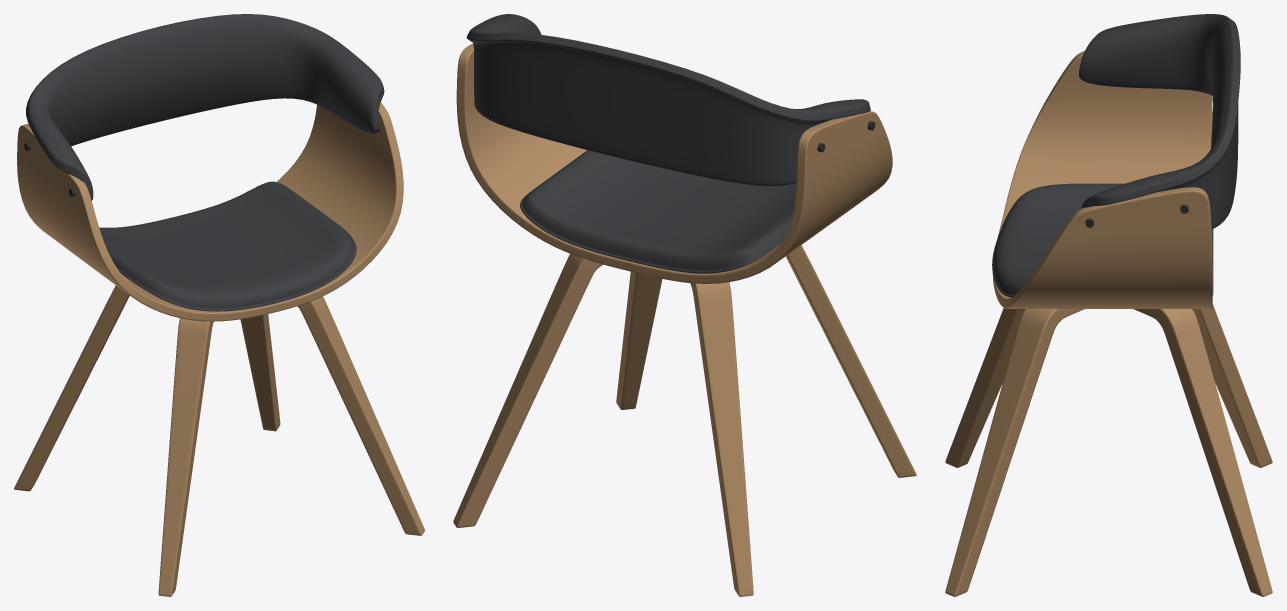
The model's file is chair-shell-1k.glb.
3 renders of one model, left to right at view 1: azimuth 30°, elevation 25°; view 2: azimuth 150°, elevation 25°; view 3: azimuth 270°, elevation 25°, orthographic. The views are drawn at different scales.
Visible parts, largest first — view 1: Cube; view 2: Cube; view 3: Cube.
Boxes of the visible parts, x1,y1,x2,y2 form: Cube: (14, 14, 424, 596); Cube: (453, 14, 916, 596); Cube: (945, 14, 1272, 596).
Bounding box in the file's own units: 0.6234 × 0.8 × 0.5054.
